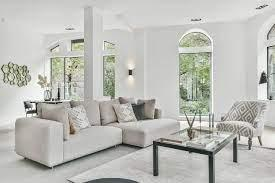chair: (217, 98, 271, 150), (23, 99, 38, 115)
door: (195, 48, 212, 117), (182, 52, 194, 117)
light: (260, 69, 275, 87), (254, 2, 273, 14), (62, 22, 79, 35), (124, 62, 135, 80), (189, 16, 205, 26)
sofa: (13, 98, 182, 167)
table: (150, 128, 239, 183), (26, 97, 66, 105)
